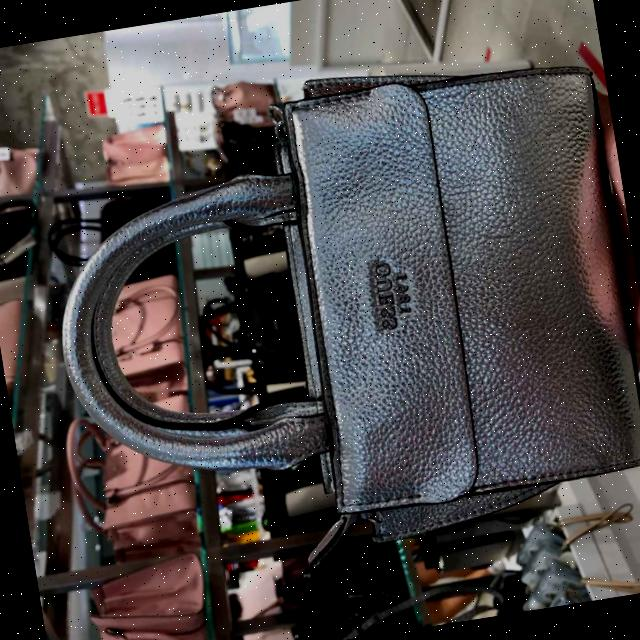Handbag: (22, 17, 640, 606)
